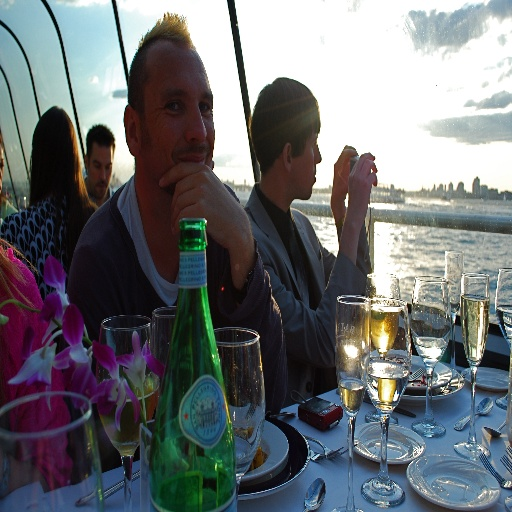hand: (158, 160, 247, 250), (349, 153, 385, 207), (329, 144, 358, 207)
